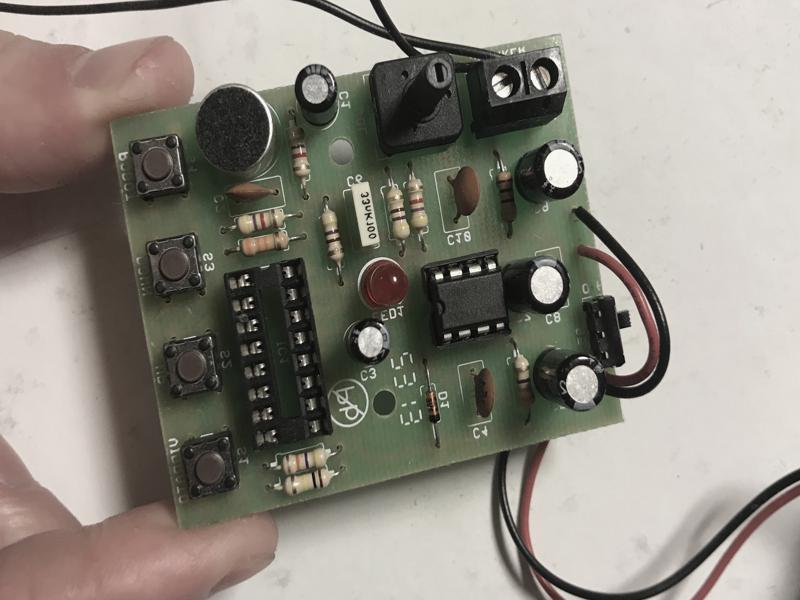Capacitor: (531, 344, 608, 414), (511, 139, 585, 206), (499, 253, 572, 319), (292, 61, 341, 129), (343, 316, 392, 366)
Diode: (422, 385, 442, 429)
LED: (356, 256, 412, 313)
Resistor: (274, 466, 341, 503), (381, 180, 415, 245), (231, 203, 291, 237), (234, 226, 294, 260), (316, 205, 348, 268), (275, 444, 335, 477), (402, 173, 432, 238), (511, 348, 538, 416), (284, 122, 313, 184), (494, 161, 521, 226)
